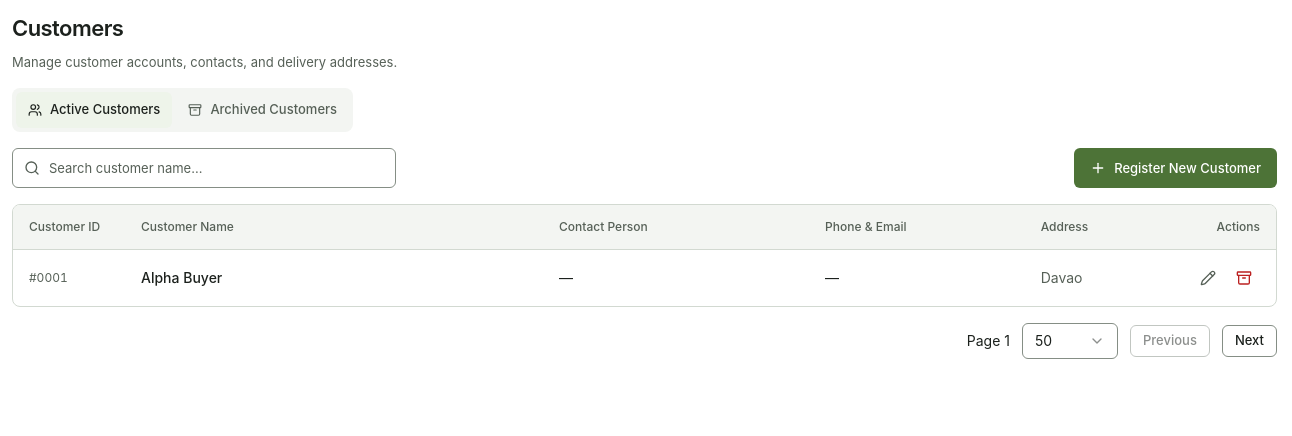
it: resets search and archive filters to page one with isolated caches
Expected: the text "Alpha Buyer" is shown, [141,269,222,286]
Click the button "Next": (1249, 340) [1222,324,1277,356]
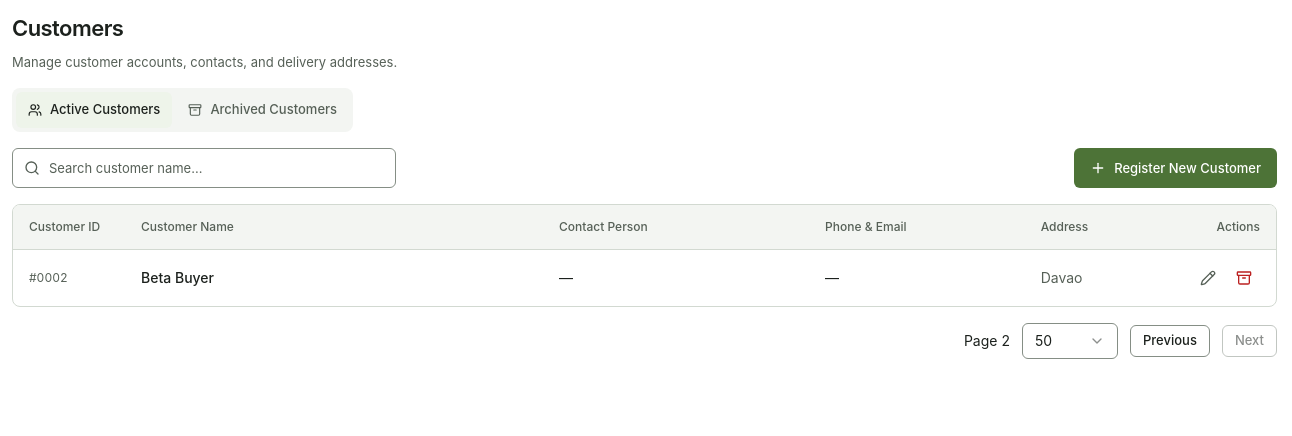
Result: the text "Beta Buyer" is shown at [141,269,214,286]
In the field named "Search customers": (204, 168) [12,148,396,188], type "Beta"
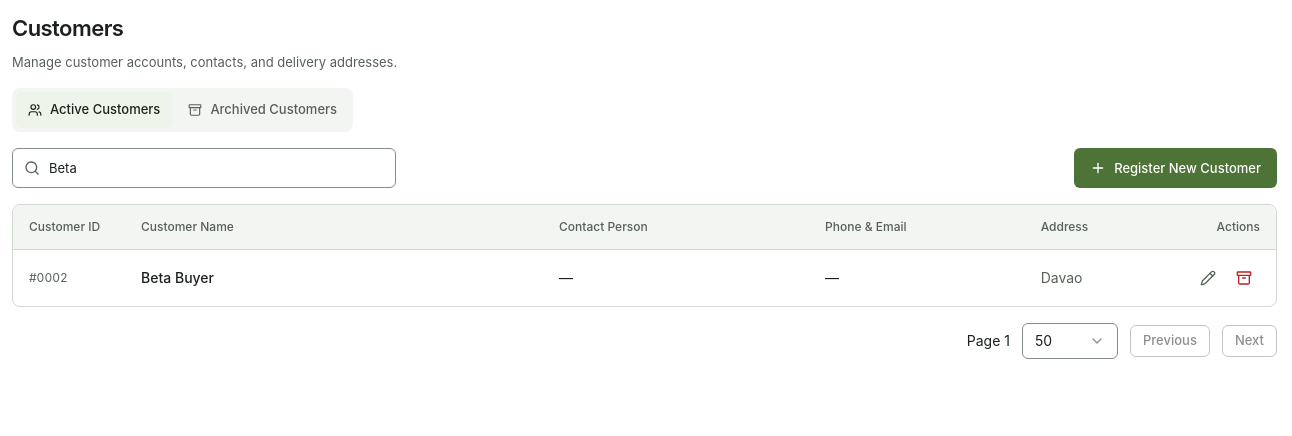
Result: the text "Beta Buyer" is shown at [141,269,214,286]
Result: the button "Previous" is disabled at [1130,324,1210,356]
Clear the field named "Search customers": (204, 168) [12,148,396,188]
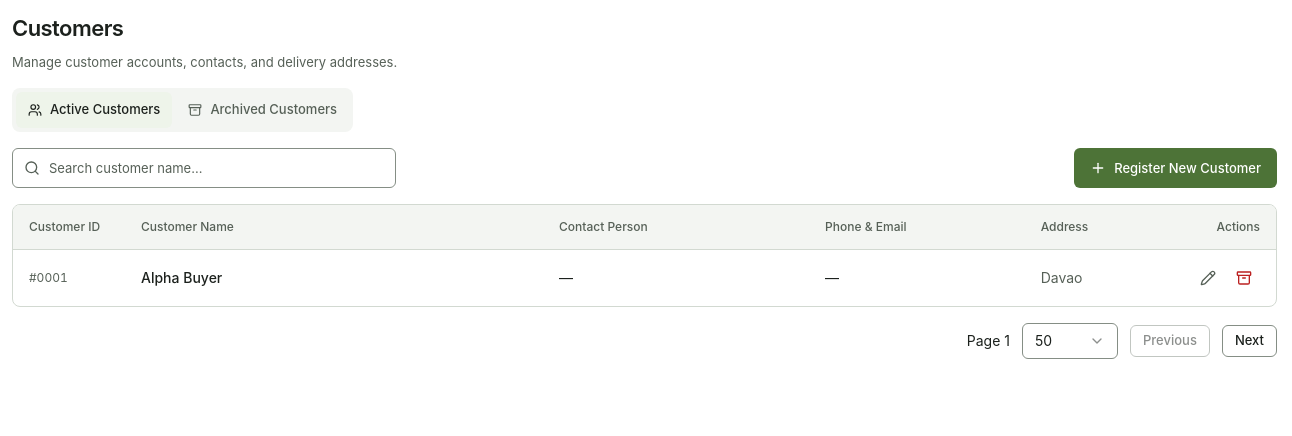
Result: the text "Alpha Buyer" is shown at [141,269,222,286]
Click the button "Next": (1249, 340) [1222,324,1277,356]
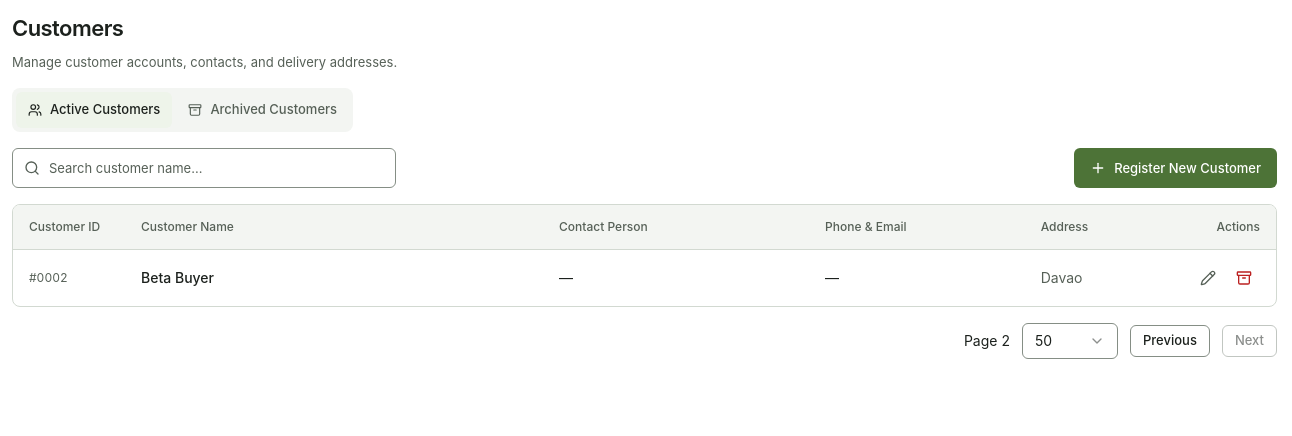
Result: the text "Beta Buyer" is shown at [141,269,214,286]
Click the button "Archived Customers": (263, 110) [176,92,349,128]
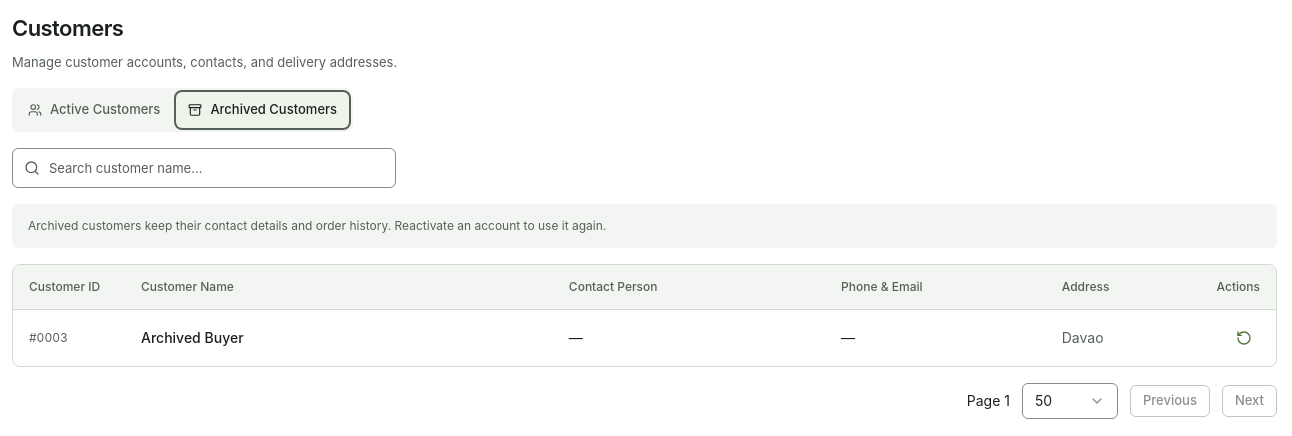
Result: the text "Archived Buyer" is shown at [141,329,244,346]
Result: the text "Beta Buyer" is gone
Click the button "Active Customers": (94, 110) [16,92,172,128]
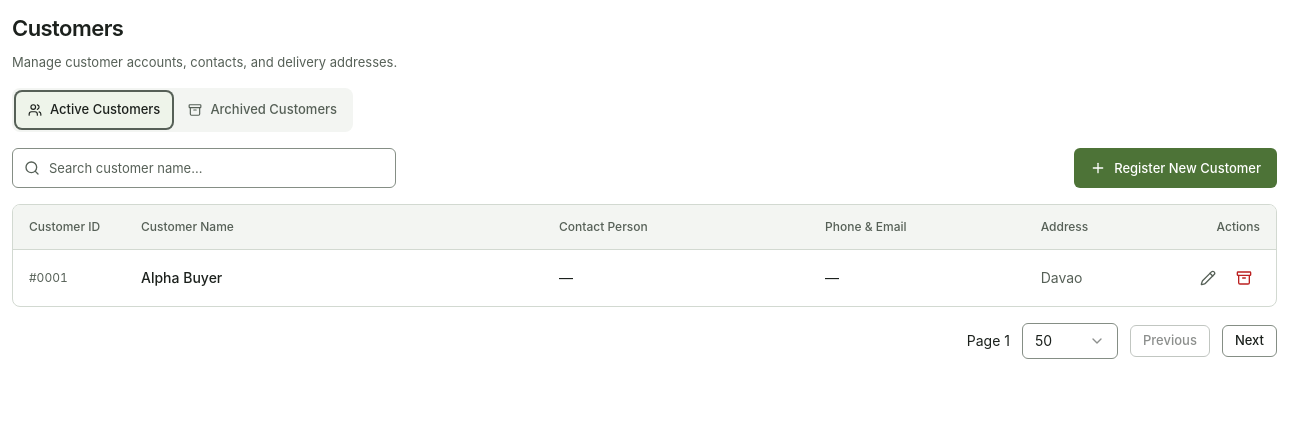
Result: the text "Alpha Buyer" is shown at [141,269,222,286]
Result: the text "Archived Buyer" is gone
